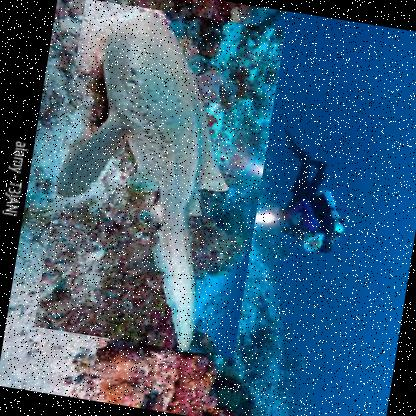zebra_shark: (32, 0, 286, 359)
